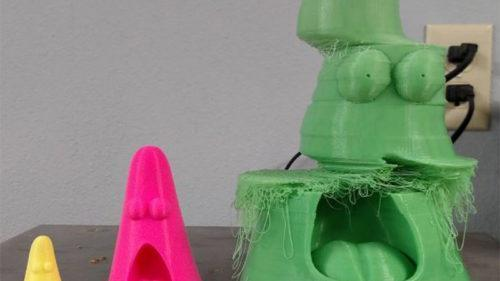Layer Shifting: (228, 144, 485, 198)
Spaghetti: (231, 165, 476, 198), (230, 200, 295, 272), (294, 24, 450, 52), (431, 198, 472, 267)
